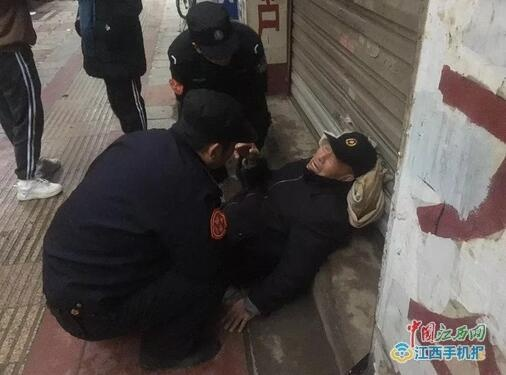falling: (203, 118, 390, 337)
